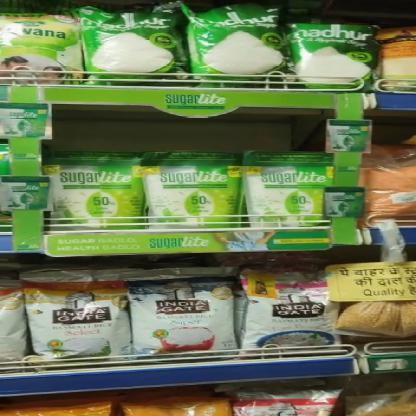SUGARLITE POUCH 500G: (47, 154, 141, 232), (145, 152, 237, 226), (244, 151, 332, 227)
